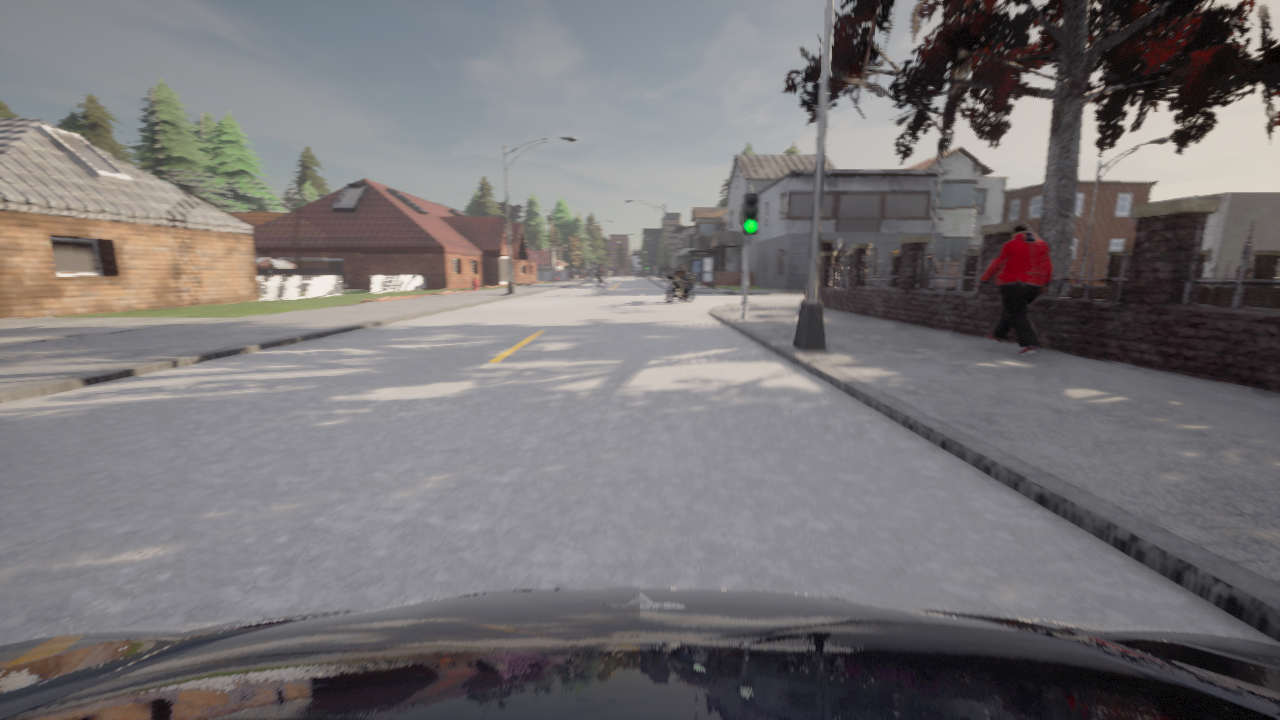cyclist: (0, 588, 1279, 719), (662, 273, 696, 303), (591, 277, 613, 296), (804, 285, 807, 298), (1229, 284, 1235, 285), (1080, 284, 1084, 285)
pedestrian: (976, 223, 1051, 355), (922, 253, 938, 285)
